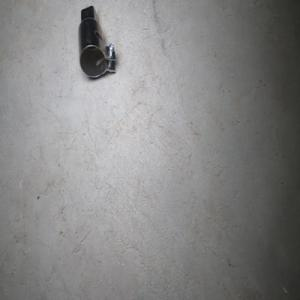MetalPart: (77, 4, 116, 78)
